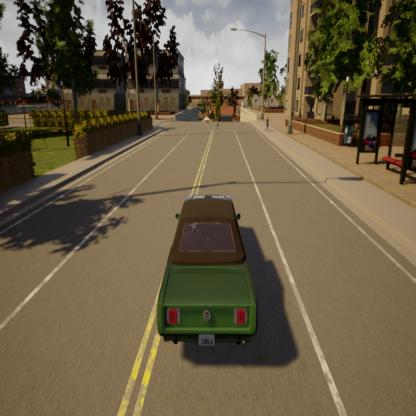Cars: (145, 185, 273, 359)
Pedestrian: (210, 108, 225, 136), (262, 110, 271, 138)
